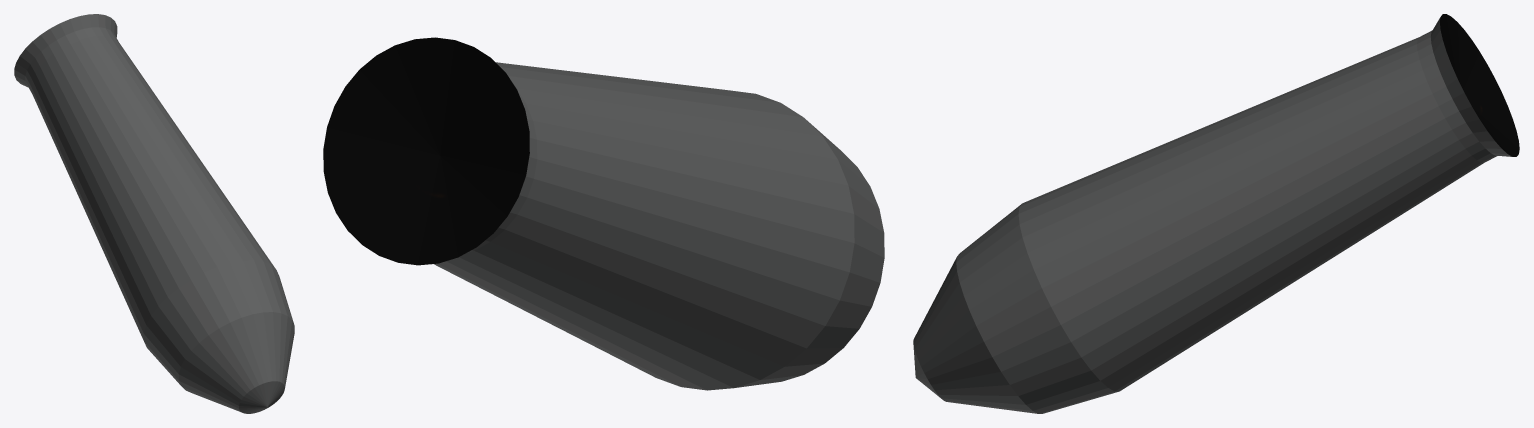
Rendered from Cannon2.fbx.
3 renders of one model, left to right at view 1: azimuth 30°, elevation 25°; view 2: azimuth 150°, elevation 25°; view 3: azimuth 270°, elevation 25°, orthographic. The views are drawn at different scales.
Visible parts, largest first — view 1: Cannon1.006; view 2: Cannon1.006; view 3: Cannon1.006.
Part boxes in pixels (left/top/right/bottom): Cannon1.006: left=14, top=14, right=294, bottom=413; Cannon1.006: left=323, top=37, right=884, bottom=390; Cannon1.006: left=913, top=14, right=1519, bottom=413.
Bounding box in the file's own units: 132 × 262 × 377.
